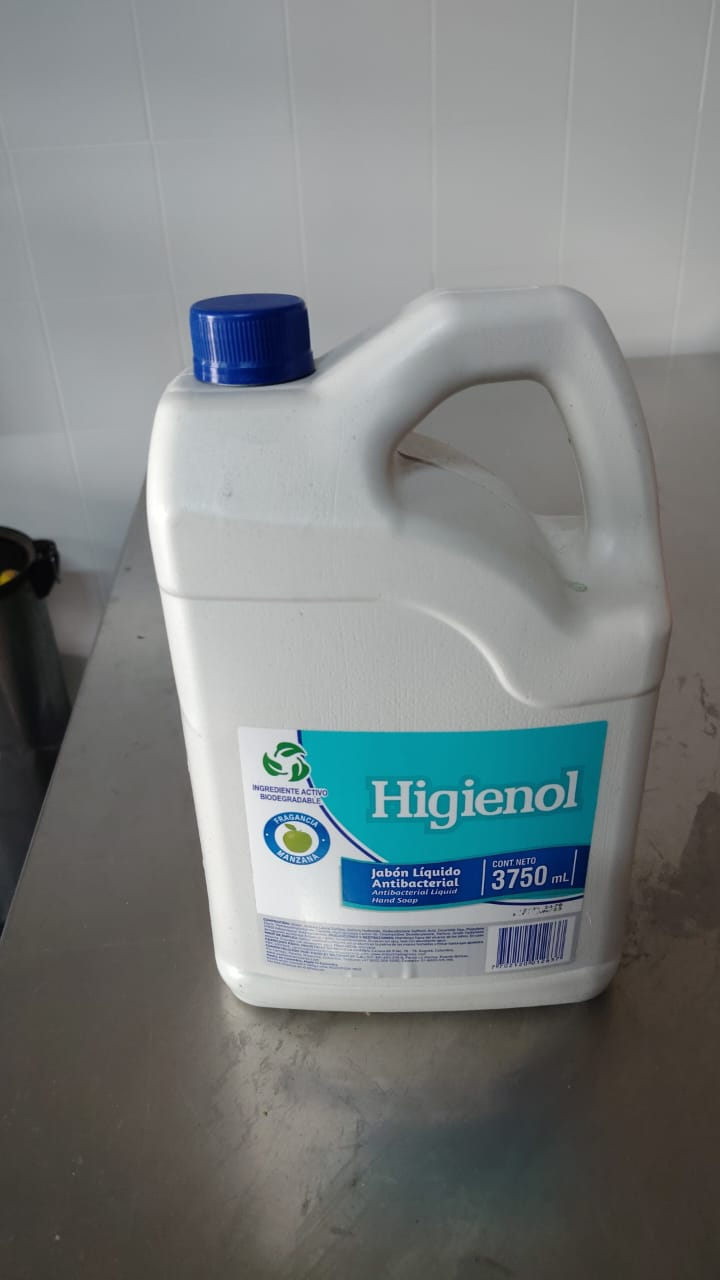Plastico: (146, 282, 671, 1010)
